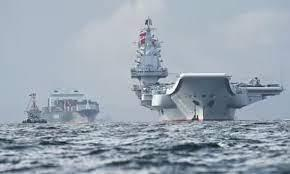MIL_Ship: (129, 15, 284, 121), (21, 87, 48, 125)
